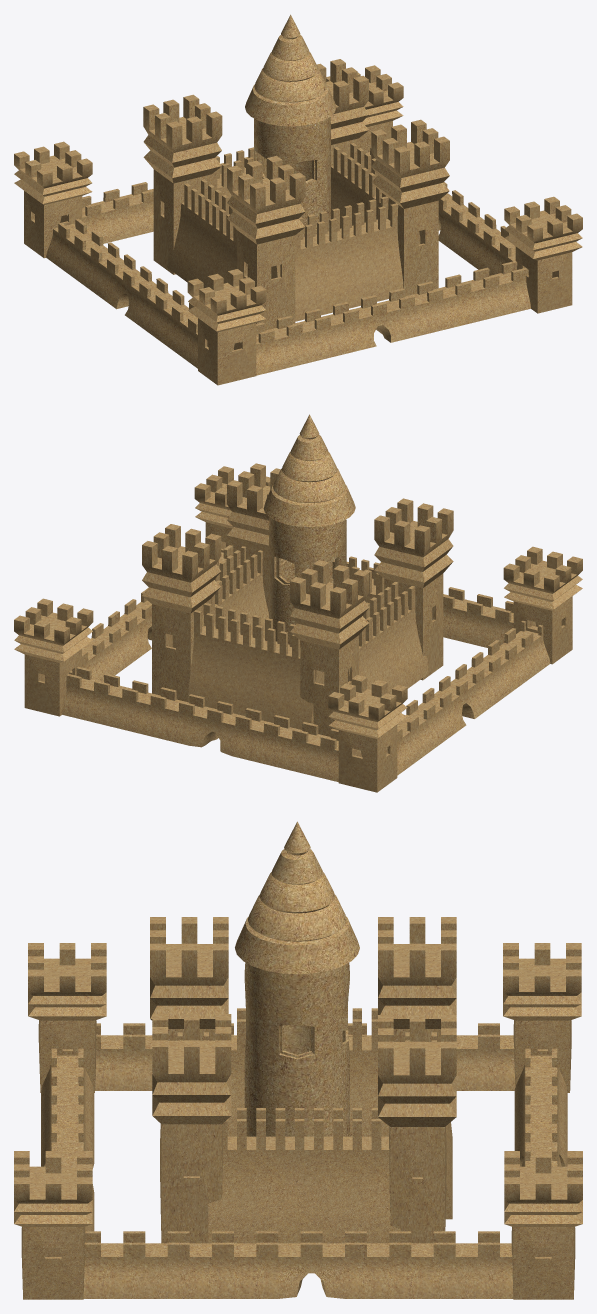
File: Castle.FBX
The picture shows the model from 3 angles, top to bottom: view 1: azimuth 30°, elevation 25°; view 2: azimuth 150°, elevation 25°; view 3: azimuth 270°, elevation 25°; orthographic projection. The views are drawn at different scales.
Visible parts, largest first — view 1: LittleWall1, Castle, Big_Wall001, Boxy_Tower006, Boxy_Tower007, LittleWall004, Boxy_Tower005, Boxy_Tower1, Boxy_Tower004, Boxy_Tower002, Big_Wall003, LittleWall003 (+5 smaller); view 2: LittleWall002, Castle, Big_Wall, Boxy_Tower008, Boxy_Tower005, LittleWall004, Boxy_Tower006, Boxy_Tower002, Boxy_Tower003, Boxy_Tower1, Big_Wall003, LittleWall003 (+5 smaller); view 3: Castle, LittleWall003, Big_Wall002, Boxy_Tower007, Boxy_Tower008, Boxy_Tower003, Boxy_Tower004, Boxy_Tower002, Boxy_Tower1, Boxy_Tower005, Boxy_Tower006, LittleWall004 (+4 smaller).
Part boxes in pixels (x1,y1,x2,y2): LittleWall1: (234,261,530,375); Castle: (245,14,336,237); Big_Wall001: (271,196,403,322); Boxy_Tower006: (227,155,305,330); Boxy_Tower007: (371,119,449,296); LittleWall004: (46,218,233,368); Boxy_Tower005: (143,94,222,274); Boxy_Tower1: (187,269,266,385); Boxy_Tower004: (504,196,582,313); Boxy_Tower002: (14,141,92,258); Big_Wall003: (167,179,247,288); LittleWall003: (365,147,528,275); LittleWall002: (62,666,361,781); Castle: (263,414,355,646); Big_Wall: (188,603,324,729); Boxy_Tower008: (142,524,221,701); Boxy_Tower005: (290,560,369,736); LittleWall004: (386,620,550,775); Boxy_Tower006: (374,498,453,680); Boxy_Tower002: (328,675,407,792); Boxy_Tower003: (14,598,93,716); Boxy_Tower1: (503,546,582,664); Big_Wall003: (348,582,428,694); LittleWall003: (69,545,233,681); Castle: (235,821,359,1136); LittleWall003: (83,1231,513,1298); Big_Wall002: (208,1108,400,1243); Boxy_Tower007: (152,1014,231,1243); Boxy_Tower008: (378,1015,456,1243); Boxy_Tower003: (504,1151,582,1299); Boxy_Tower004: (14,1151,92,1299); Boxy_Tower002: (503,943,581,1092); Boxy_Tower1: (28,943,106,1092); Boxy_Tower005: (378,917,456,1041); Boxy_Tower006: (150,917,228,1040); LittleWall004: (95,1023,515,1090).
Size of the model in its own units: 125 by 87.52 by 125.
